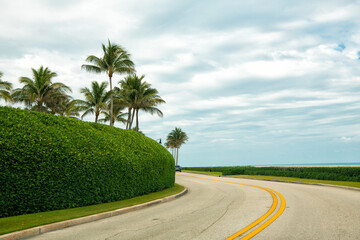leftTrun: (179, 167, 351, 240)
